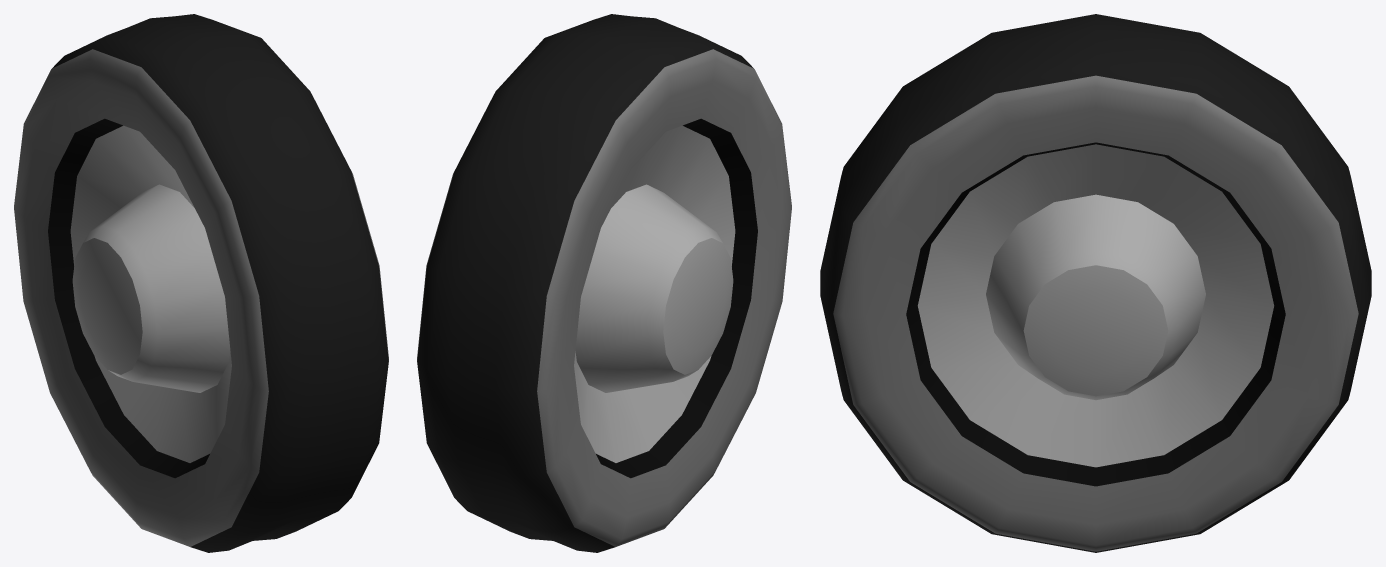
The model's file is hot_rod_wheel.glb.
3 renders of one model, left to right at view 1: azimuth 30°, elevation 25°; view 2: azimuth 150°, elevation 25°; view 3: azimuth 270°, elevation 25°, orthographic. The views are drawn at different scales.
Visible parts, largest first — view 1: front_wheel.001; view 2: front_wheel.001; view 3: front_wheel.001.
Part boxes in pixels (x1,y1,x2,y2): front_wheel.001: [14, 14, 388, 552]; front_wheel.001: [417, 14, 791, 552]; front_wheel.001: [820, 14, 1371, 552].
Bounding box in the file's own units: 0.6025 × 1.43 × 1.42.
Materials: 1 (1 with a texture image).
